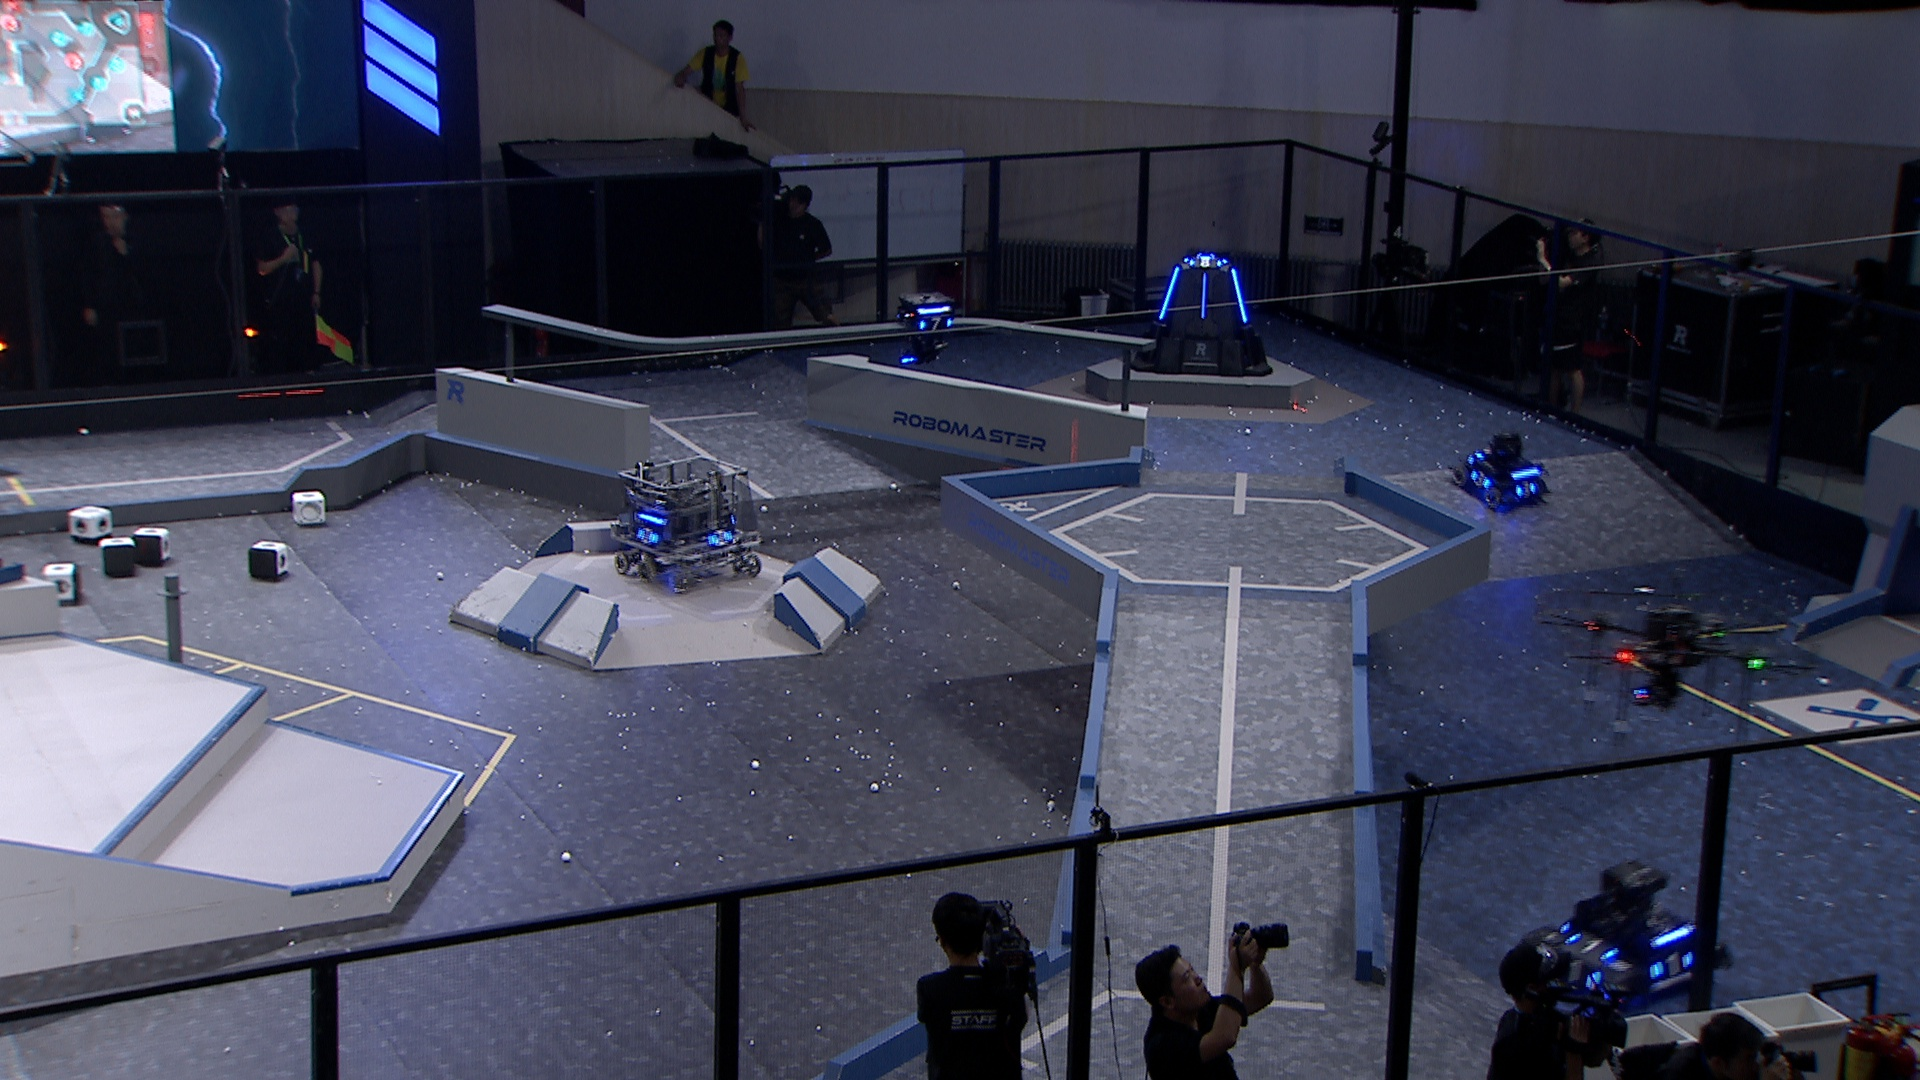armor: (1555, 955, 1604, 993), (1155, 262, 1182, 322), (1651, 951, 1698, 981), (1564, 934, 1619, 956), (1229, 268, 1250, 324), (916, 316, 953, 334), (1468, 469, 1494, 493), (1189, 255, 1225, 272), (636, 527, 661, 549), (1513, 481, 1538, 501), (707, 529, 735, 546), (1200, 272, 1209, 319)
base: (1120, 244, 1275, 377)
car: (1522, 856, 1727, 1011), (611, 450, 770, 589), (1452, 425, 1555, 514)
watcher: (895, 290, 961, 367)
